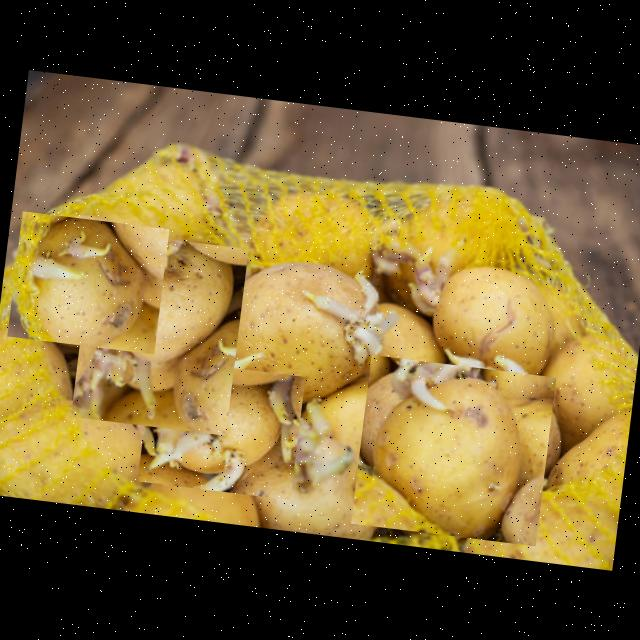Sprouted potato: (350, 354, 556, 546), (70, 230, 248, 436), (392, 225, 574, 408), (206, 253, 394, 423), (238, 400, 404, 544), (137, 358, 305, 500), (7, 211, 169, 354)
